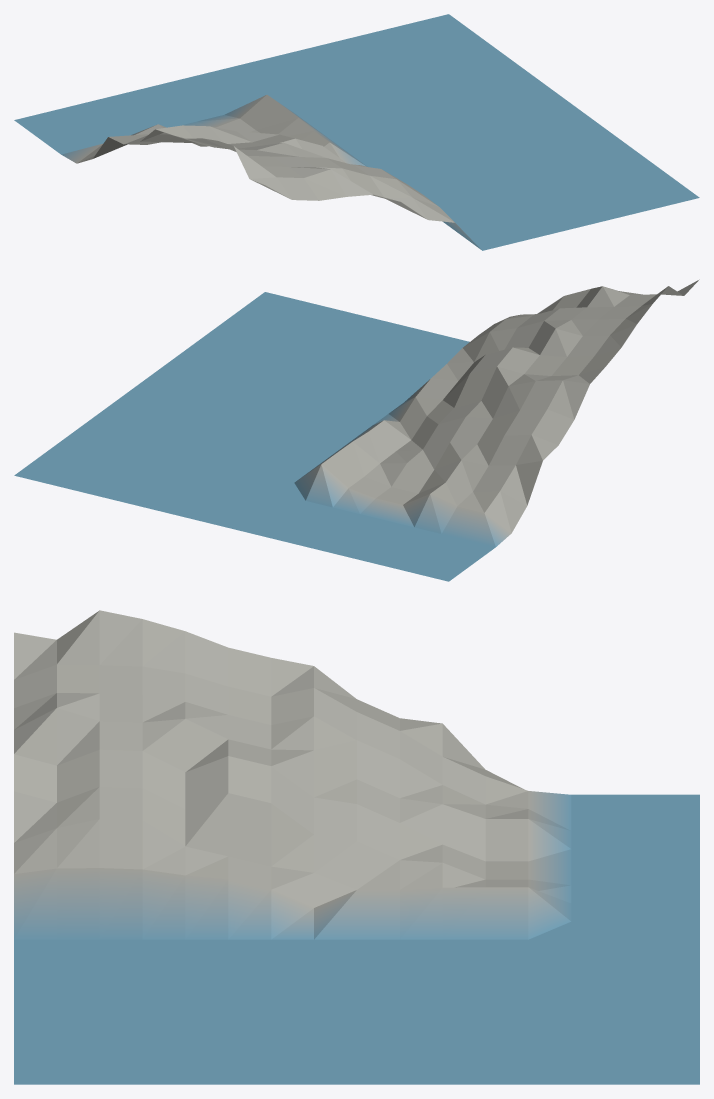
3 views of the same model, one above another, from view 1: azimuth 30°, elevation 25°; view 2: azimuth 150°, elevation 25°; view 3: azimuth 270°, elevation 25° (orthographic). The views are drawn at different scales.
Size of the model in its own units: 32 by 9.49 by 32.
